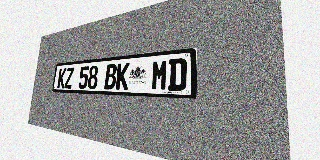5: (78, 66, 89, 89)
8: (87, 65, 99, 89)
B: (104, 64, 117, 89)
D: (168, 58, 187, 91)
K: (115, 63, 130, 90), (57, 68, 66, 88)
M: (151, 59, 168, 91)
Z: (64, 67, 74, 88)
